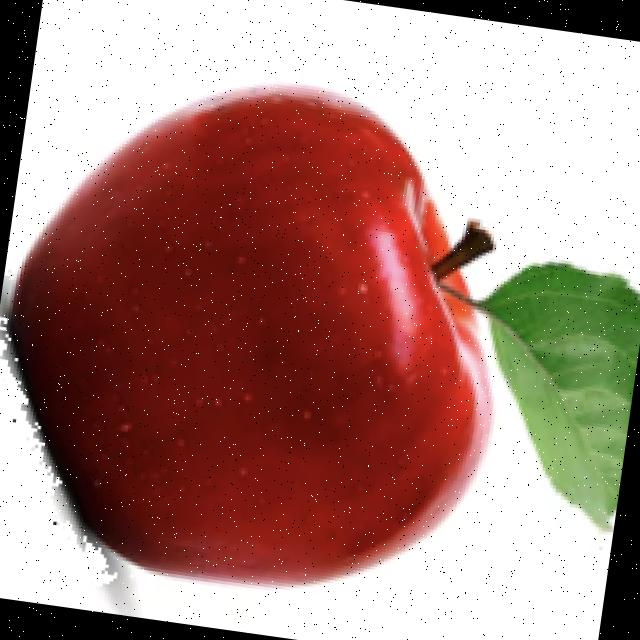apple: (0, 78, 640, 615)
